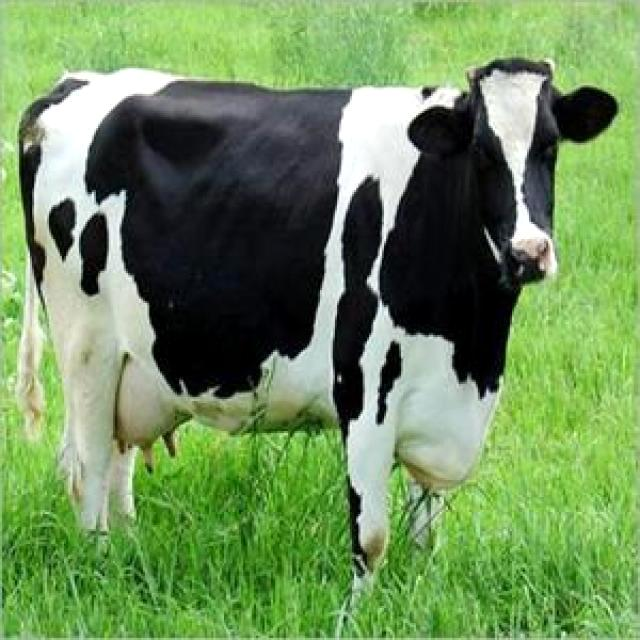COW: (18, 59, 616, 586)
